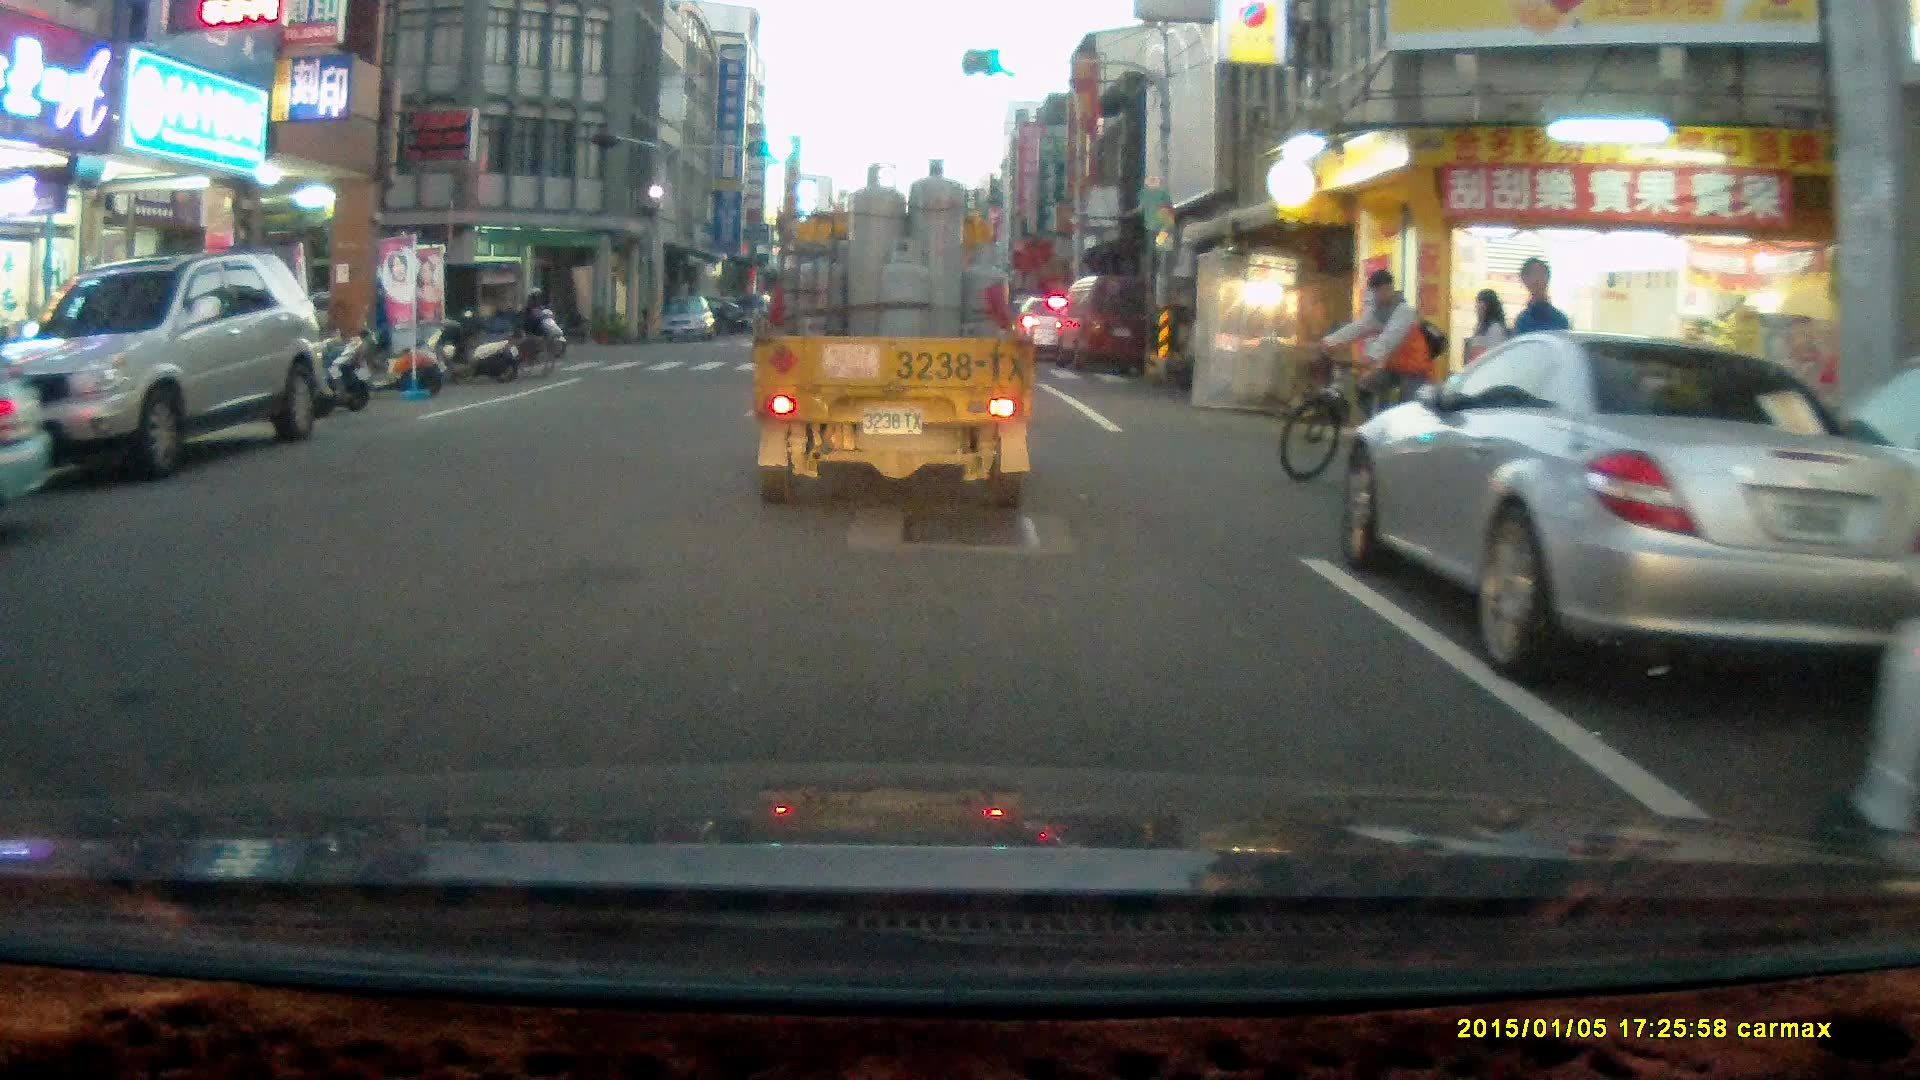pedestrian: (1506, 255, 1572, 489), (1463, 285, 1511, 458)
rider: (1282, 267, 1468, 486), (500, 282, 565, 363)
vehicle: (1342, 332, 1901, 682), (751, 162, 1037, 516), (3, 247, 332, 482), (333, 261, 523, 365), (1058, 274, 1161, 372), (1018, 298, 1088, 361), (656, 291, 721, 349)
